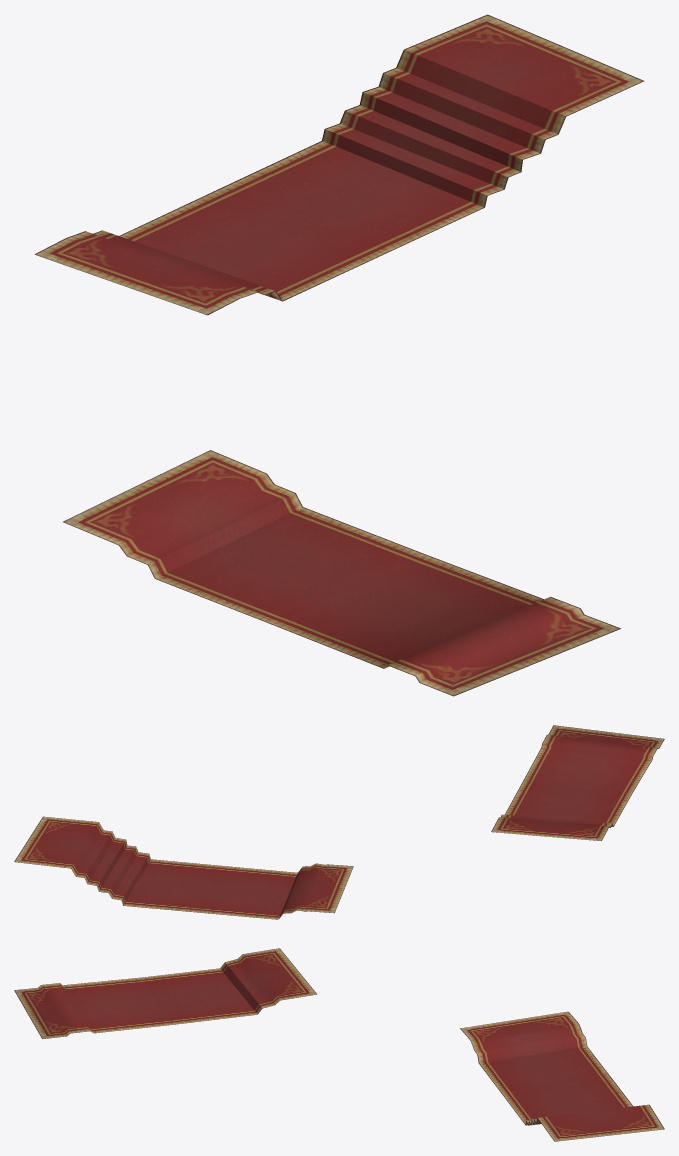
Rendered from ZC_ditan02.FBX.
3 renders of one model, top to bottom at view 1: azimuth 30°, elevation 25°; view 2: azimuth 150°, elevation 25°; view 3: azimuth 270°, elevation 25°, orthographic. The views are drawn at different scales.
Parts seen in each view (by area): view 1: ZC_ditan02_001, ZC_ditan02_002; view 2: ZC_ditan02_001, ZC_ditan02_002; view 3: ZC_ditan02_002, ZC_ditan02_001.
Part boxes in pixels (x1,y1,x2,y2): ZC_ditan02_001: (34,14,644,315); ZC_ditan02_002: (63,450,620,696); ZC_ditan02_001: (14,816,353,919); ZC_ditan02_002: (491,725,664,840); ZC_ditan02_002: (14,948,317,1038); ZC_ditan02_001: (460,1011,664,1141).
Size of the model in its own units: 2187 by 148 by 2826.
1 material, 1 textured.
